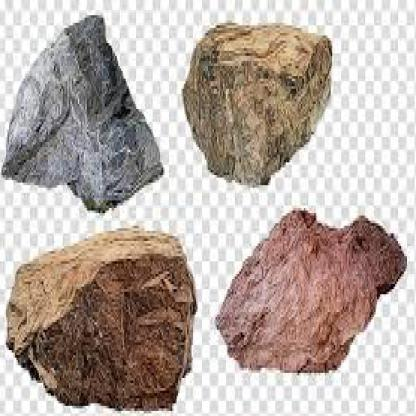Metamorphic_Quartize: (0, 226, 202, 413), (218, 190, 407, 386), (0, 10, 171, 213), (180, 13, 338, 185)
